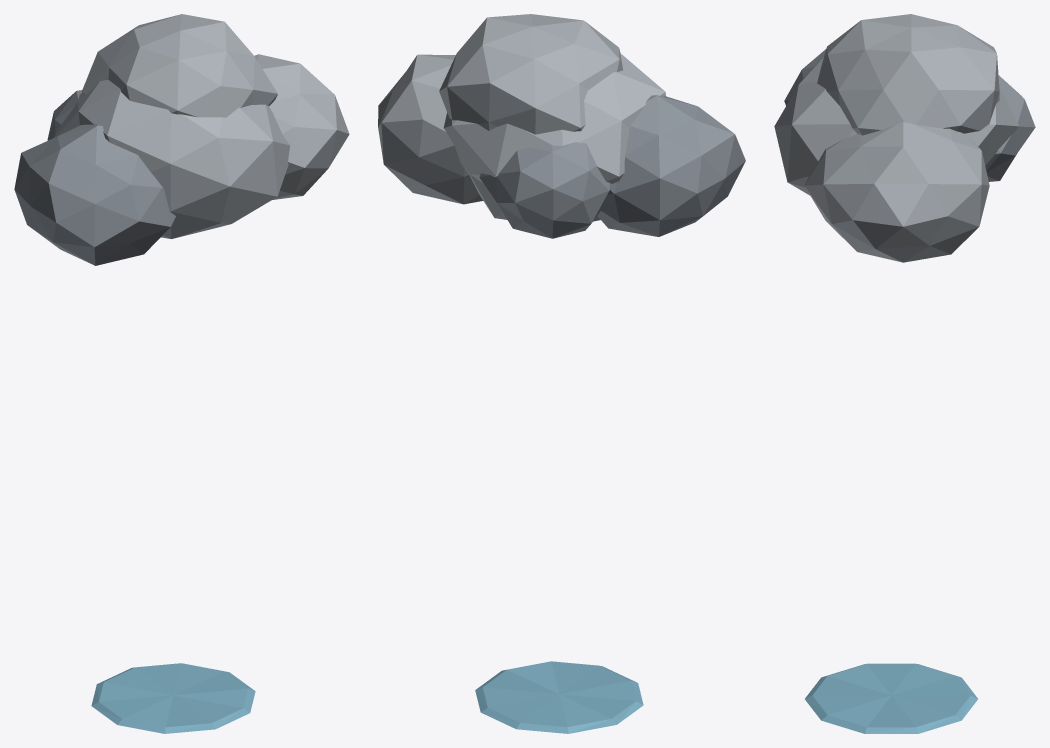
The model's file is nuage-pluie.glb.
3 renders of one model, left to right at view 1: azimuth 30°, elevation 25°; view 2: azimuth 150°, elevation 25°; view 3: azimuth 270°, elevation 25°, orthographic. The views are drawn at different scales.
Size of the model in its own units: 2.06 by 4 by 1.39.
